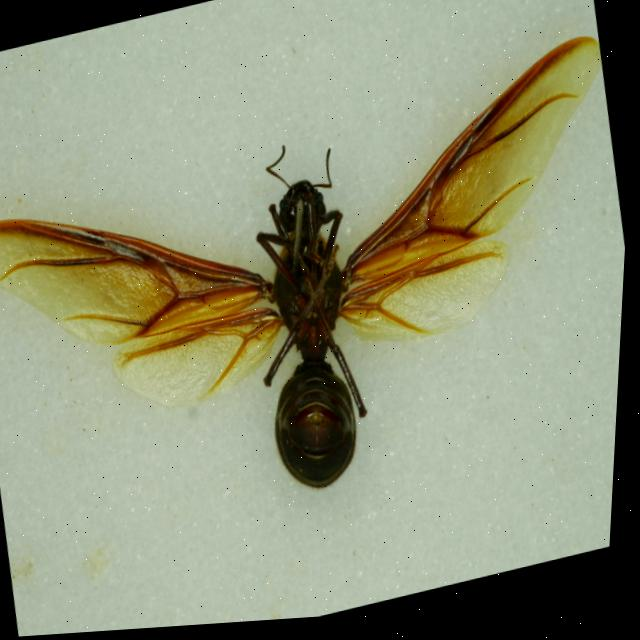Dead-Female-Alate: (0, 32, 637, 572)
